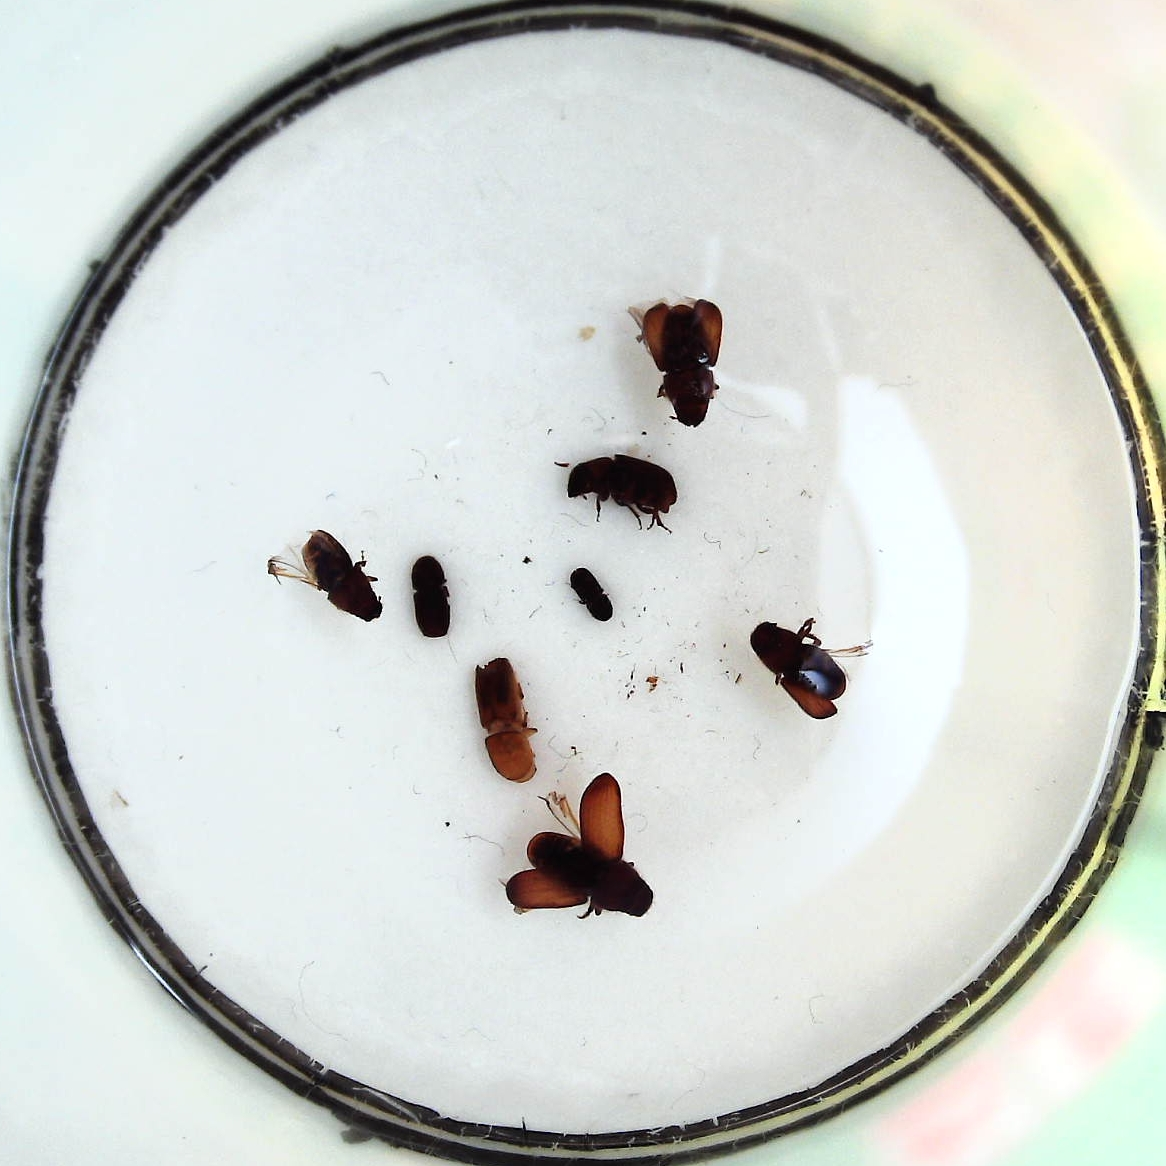Boerner: (473, 653, 540, 782)
Leconte: (516, 775, 655, 921), (639, 295, 724, 430), (745, 615, 849, 720), (293, 527, 391, 621), (565, 453, 680, 531)
Linnaeus: (409, 549, 455, 641)
coleoptera: (567, 562, 616, 625)
